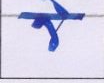e_matra: (35, 0, 70, 14)
